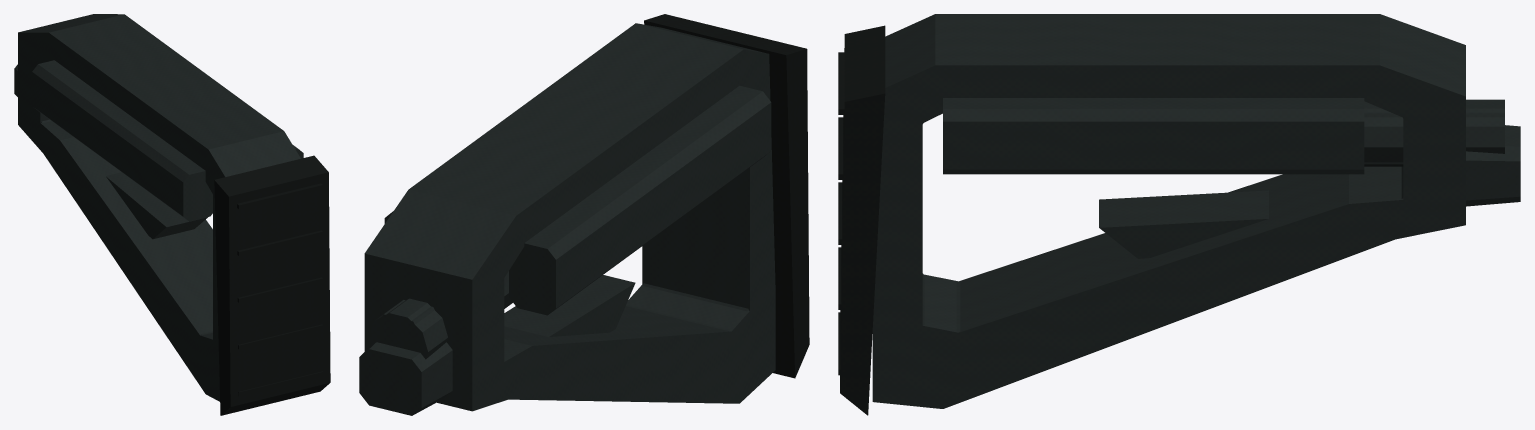
File: ar_crane.glb
The picture shows the model from 3 angles, left to right: view 1: azimuth 30°, elevation 25°; view 2: azimuth 150°, elevation 25°; view 3: azimuth 270°, elevation 25°; orthographic projection. The views are drawn at different scales.
Parts seen in each view (by area): view 1: stock__ar_crane_LOD0_RAID_Secondary_Original_polymer, stock__ar_crane_LOD0_RAID_Secondary_Original_rubber, stock__ar_crane_LOD1_RAID_Secondary_Original_polymer, stock__ar_crane_LOD1_RAID_Secondary_Original_rubber; view 2: stock__ar_crane_LOD0_RAID_Secondary_Original_polymer, stock__ar_crane_LOD1_RAID_Secondary_Original_polymer, stock__ar_crane_LOD0_RAID_Secondary_Original_rubber, stock__ar_crane_LOD1_RAID_Secondary_Original_rubber; view 3: stock__ar_crane_LOD0_RAID_Secondary_Original_polymer, stock__ar_crane_LOD1_RAID_Secondary_Original_polymer, stock__ar_crane_LOD1_RAID_Secondary_Original_rubber, stock__ar_crane_LOD0_RAID_Secondary_Original_rubber.
Part boxes in pixels (<box>): stock__ar_crane_LOD0_RAID_Secondary_Original_polymer: <box>14,14,303,396</box>; stock__ar_crane_LOD0_RAID_Secondary_Original_rubber: <box>214,157,328,414</box>; stock__ar_crane_LOD1_RAID_Secondary_Original_polymer: <box>18,14,300,401</box>; stock__ar_crane_LOD1_RAID_Secondary_Original_rubber: <box>214,155,330,415</box>; stock__ar_crane_LOD0_RAID_Secondary_Original_polymer: <box>359,23,774,415</box>; stock__ar_crane_LOD1_RAID_Secondary_Original_polymer: <box>364,23,775,411</box>; stock__ar_crane_LOD0_RAID_Secondary_Original_rubber: <box>646,15,808,375</box>; stock__ar_crane_LOD1_RAID_Secondary_Original_rubber: <box>644,14,809,378</box>; stock__ar_crane_LOD0_RAID_Secondary_Original_polymer: <box>874,14,1520,403</box>; stock__ar_crane_LOD1_RAID_Secondary_Original_polymer: <box>872,14,1504,408</box>; stock__ar_crane_LOD1_RAID_Secondary_Original_rubber: <box>840,25,885,415</box>; stock__ar_crane_LOD0_RAID_Secondary_Original_rubber: <box>838,27,884,401</box>.
Bounding box in the file's own units: 0.124 × 0.243 × 0.437.
2 materials, 2 textured.
